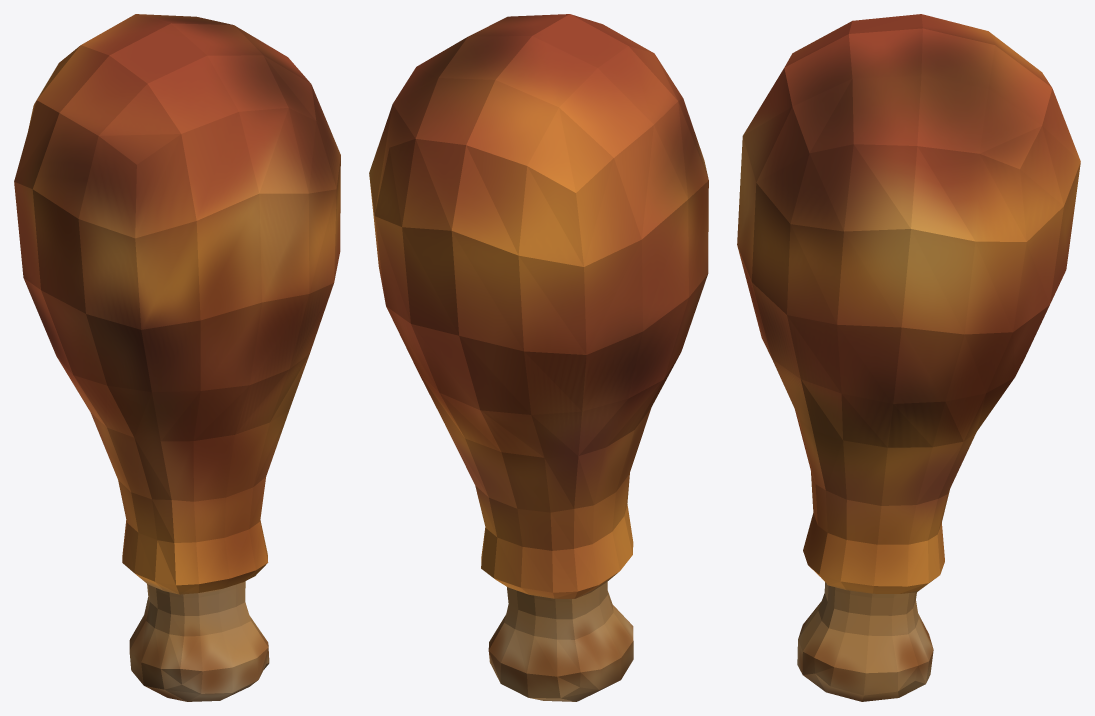
Rendered from 9523cc88-06d8-4696-a507-ca27fbddaf07.glb.
3 views of the same model, side by side, from view 1: azimuth 30°, elevation 25°; view 2: azimuth 150°, elevation 25°; view 3: azimuth 270°, elevation 25° (orthographic). The views are drawn at different scales.
Parts seen in each view (by area): view 1: Node; view 2: Node; view 3: Node.
Part boxes in pixels (x1=…): Node: x1=14, y1=14, x2=340, y2=701; Node: x1=369, y1=14, x2=708, y2=701; Node: x1=737, y1=14, x2=1080, y2=701.
Bounding box in the file's own units: 0.8111 × 1.75 × 0.8217.
Materials: 1 (1 with a texture image).
